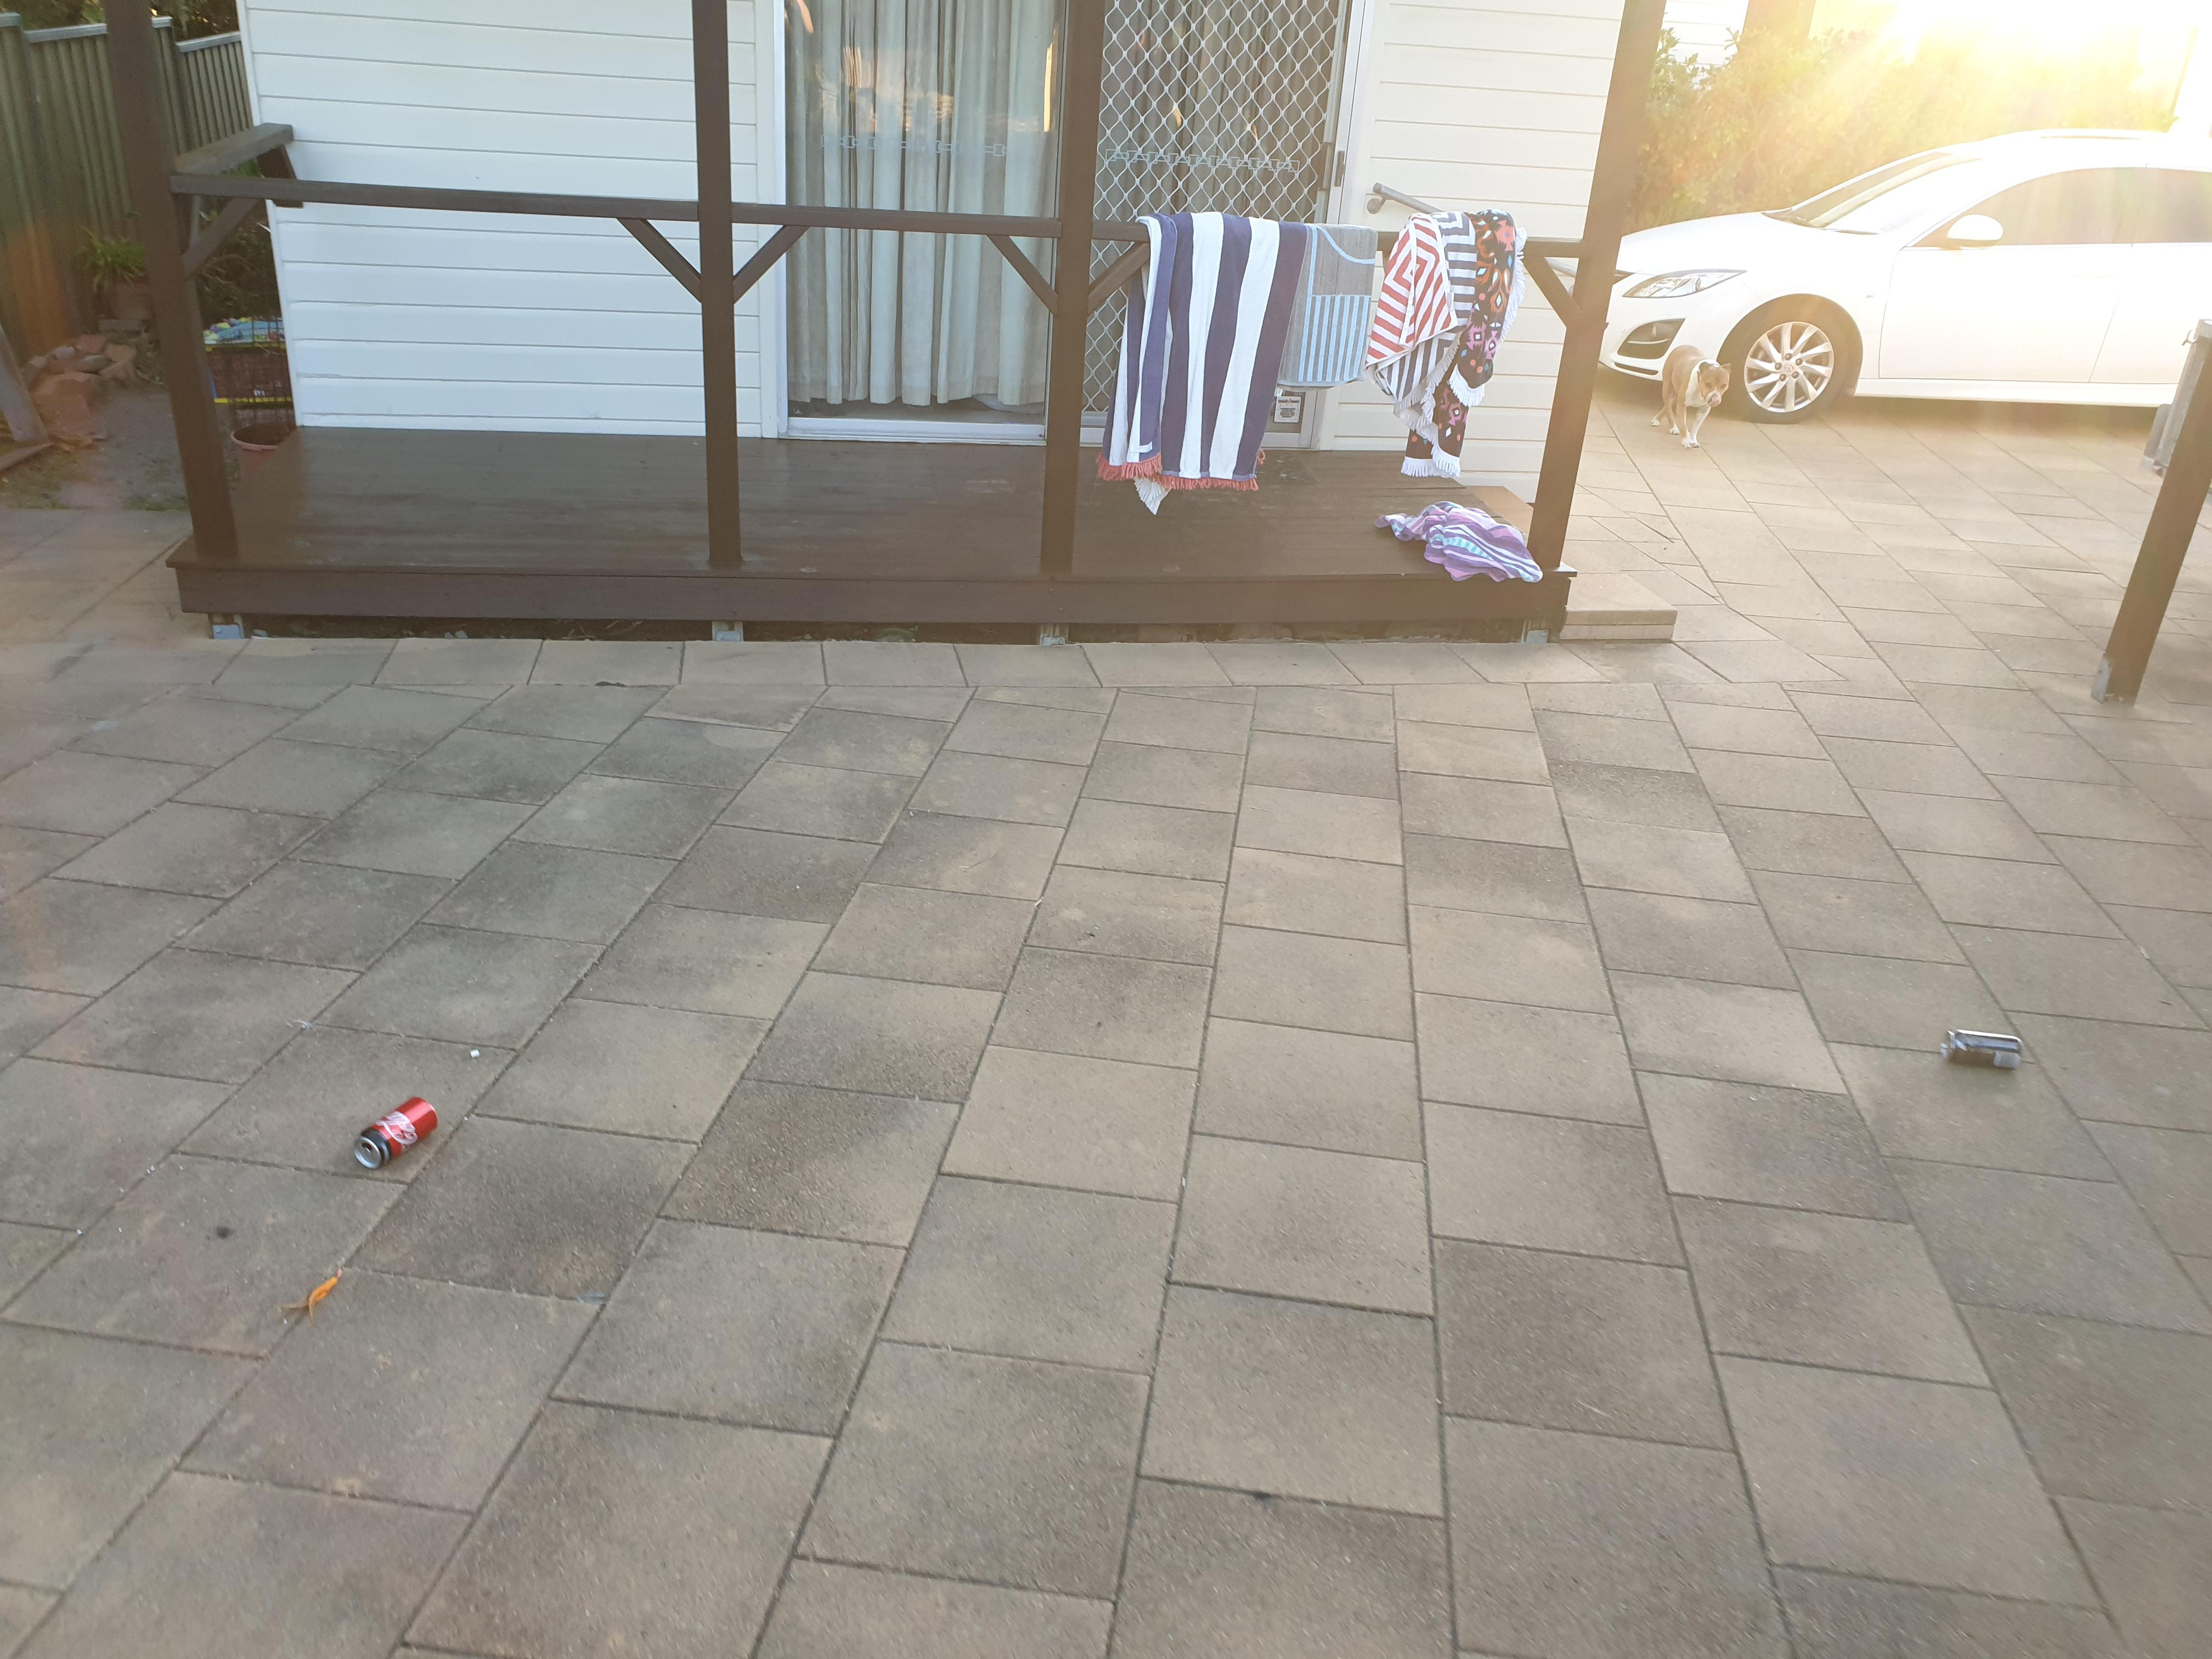Plastic Bottle: (354, 1098, 437, 1169), (1940, 1028, 2022, 1072)
